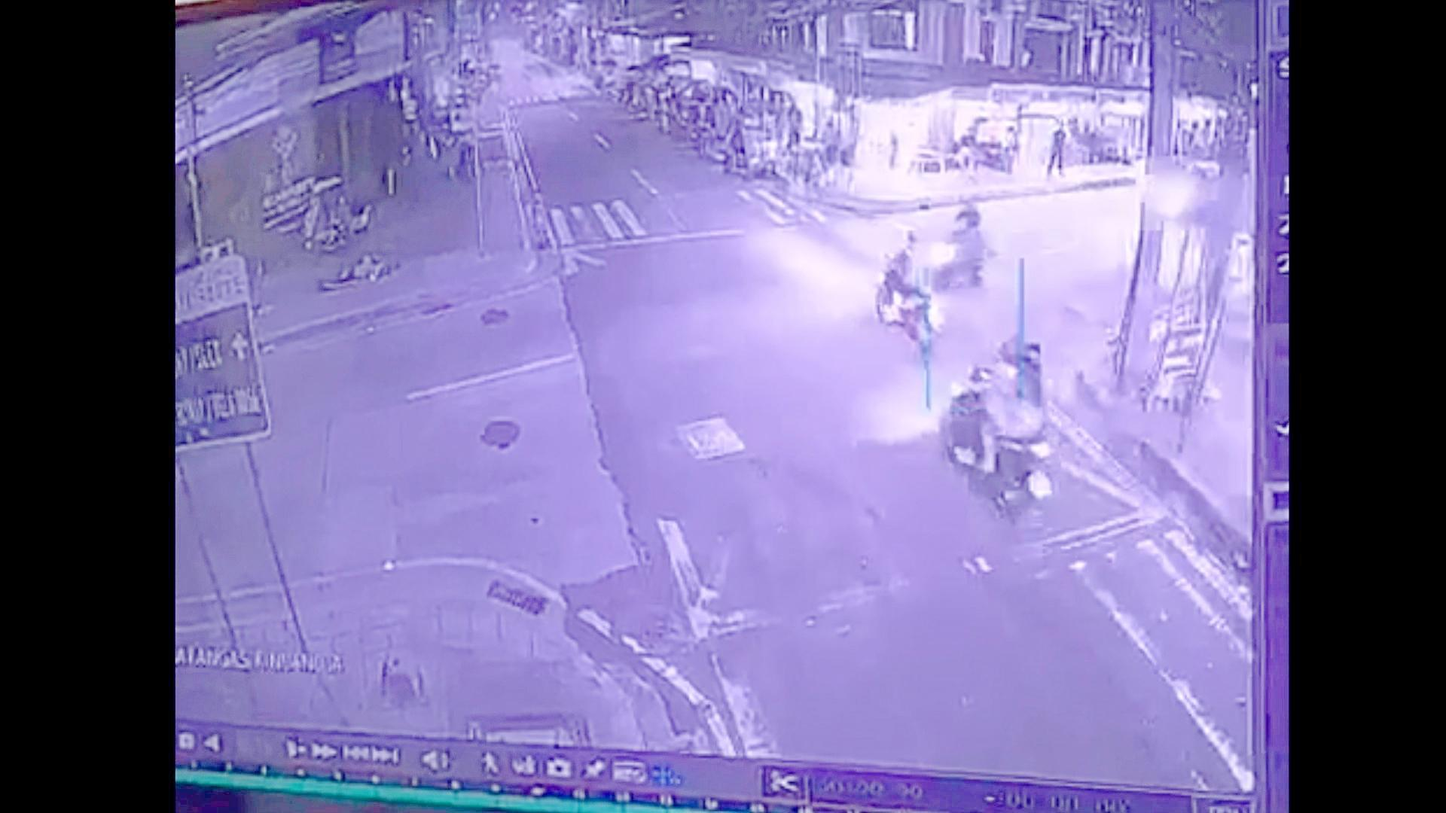Motor: (868, 226, 940, 352), (935, 201, 990, 290)
Not Accident: (861, 201, 992, 351)
